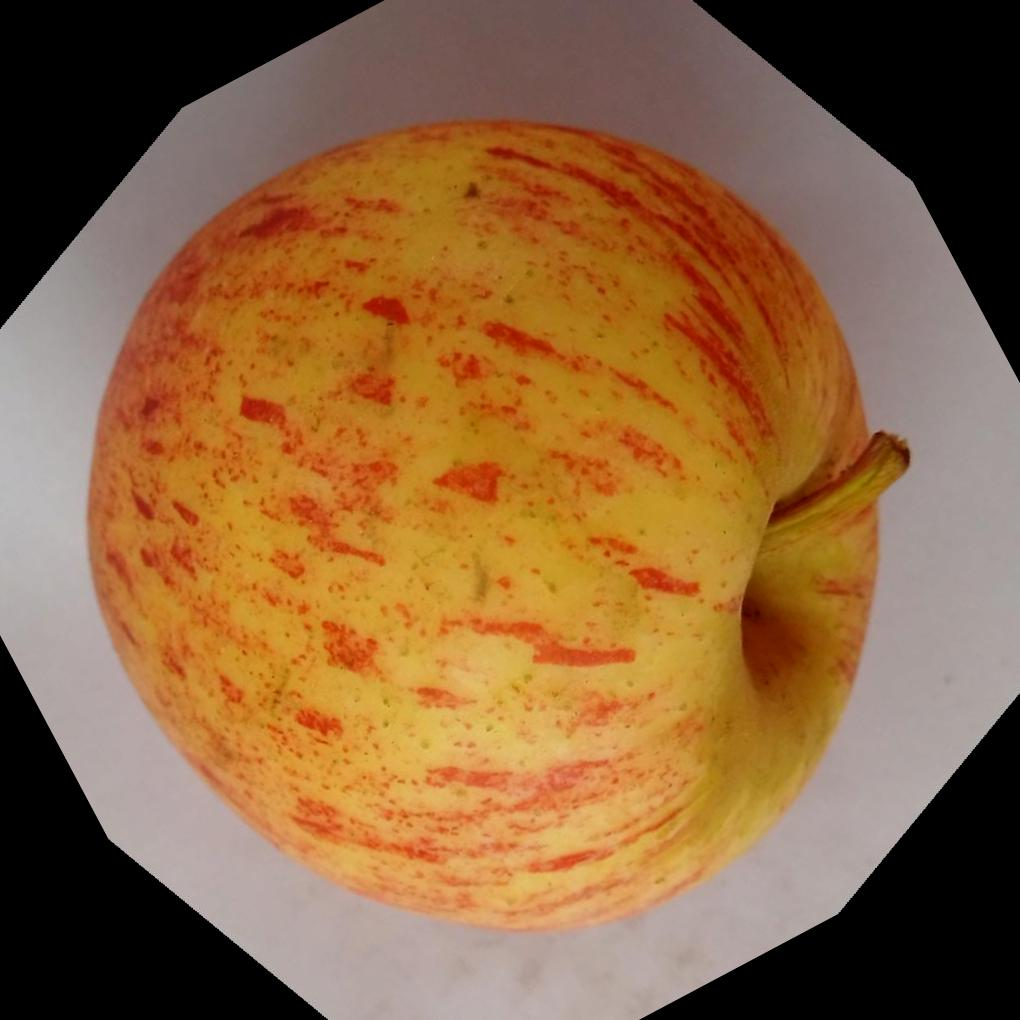FreshGuava: (79, 115, 909, 934)
